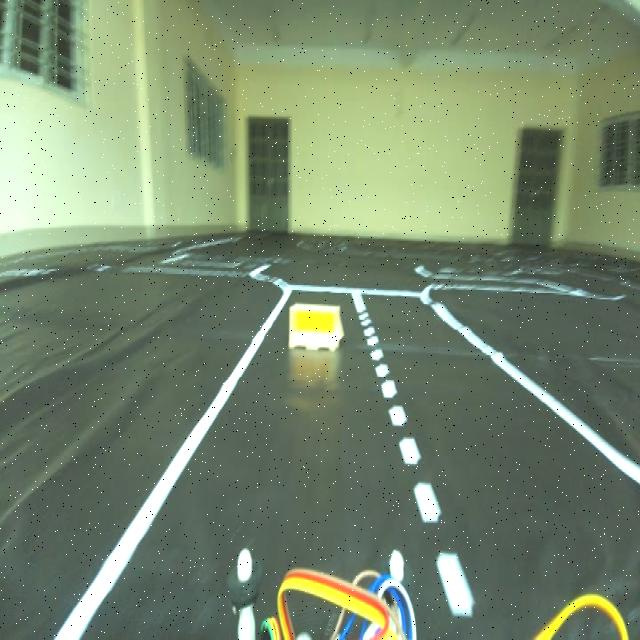roadblock: (283, 298, 345, 350)
